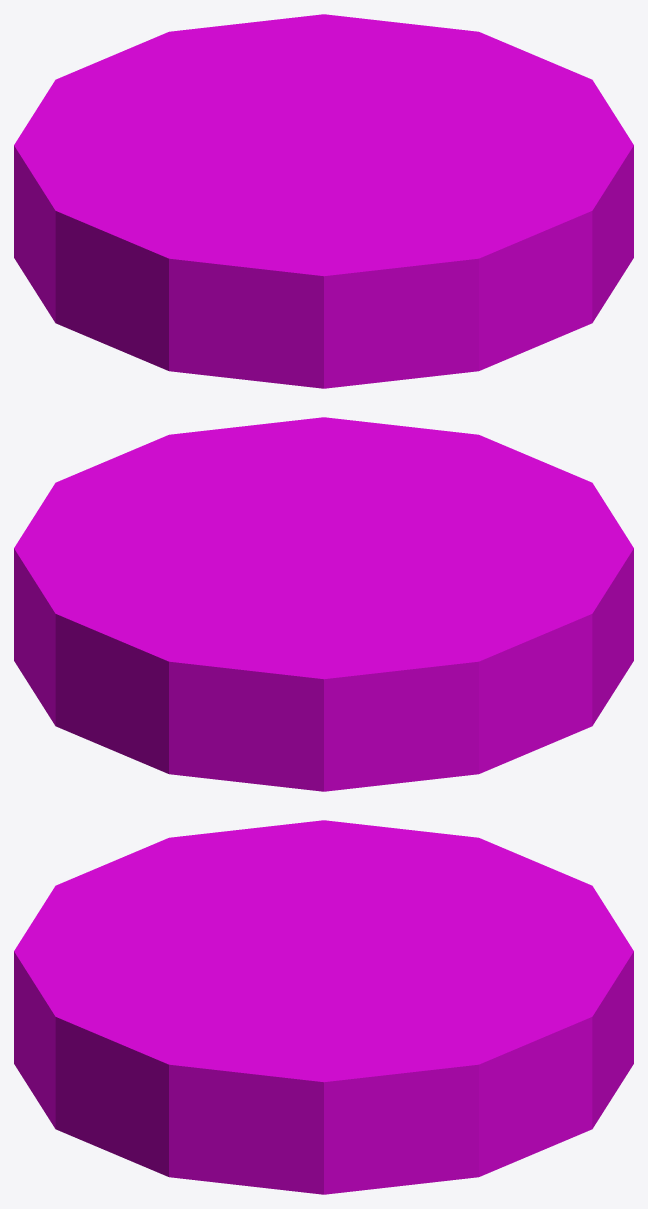
Rendered from SM_OverheadLightSingleBaseCollider.fbx.
3 views of the same model, one above another, from view 1: azimuth 30°, elevation 25°; view 2: azimuth 150°, elevation 25°; view 3: azimuth 270°, elevation 25° (orthographic).
Visible parts, largest first — view 1: OverheadLightSingleBaseCollision; view 2: OverheadLightSingleBaseCollision; view 3: OverheadLightSingleBaseCollision.
Part boxes in pixels (x1=…): OverheadLightSingleBaseCollision: x1=14, y1=14, x2=633, y2=388; OverheadLightSingleBaseCollision: x1=14, y1=417, x2=633, y2=791; OverheadLightSingleBaseCollision: x1=14, y1=820, x2=633, y2=1194.
Bounding box in the file's own units: 42.46 × 8.51 × 42.46.
